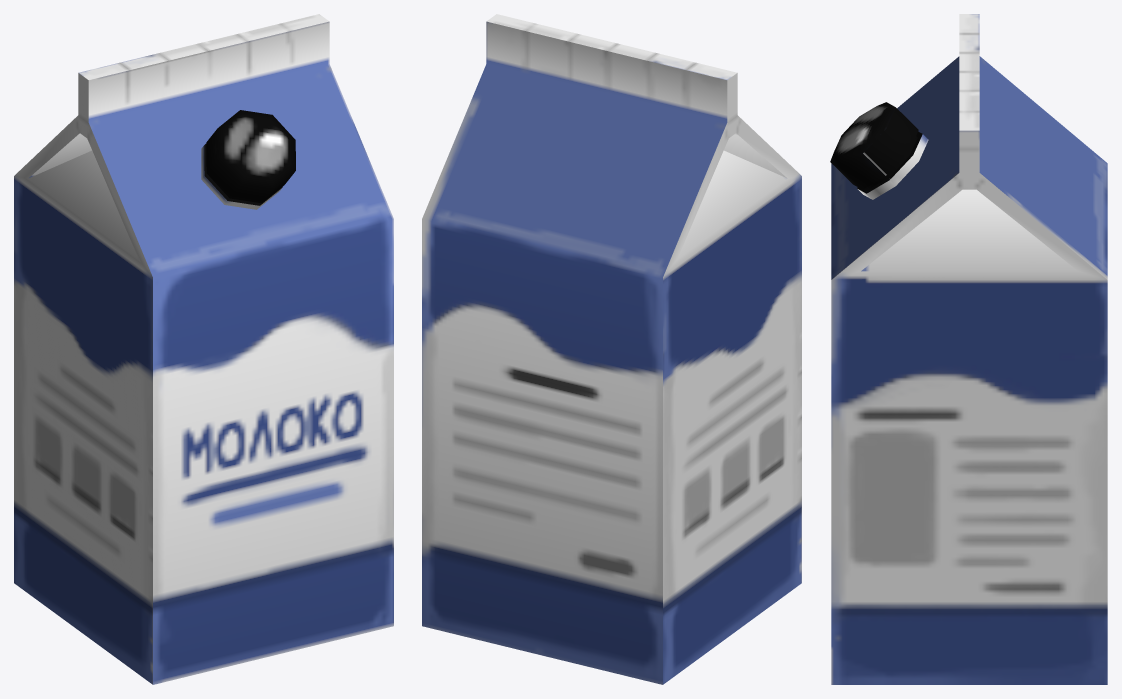
Rendered from juice.fbx.
3 views of the same model, side by side, from view 1: azimuth 30°, elevation 25°; view 2: azimuth 150°, elevation 25°; view 3: azimuth 270°, elevation 25° (orthographic).
Visible parts, largest first — view 1: juice; view 2: juice; view 3: juice.
Part boxes in pixels (left/top/right/bottom): juice: left=14, top=14, right=393, bottom=684; juice: left=422, top=14, right=801, bottom=684; juice: left=830, top=14, right=1107, bottom=684.
Size of the model in its own units: 3.21 by 3.23 by 7.11.
Materials: 1 (1 with a texture image).
